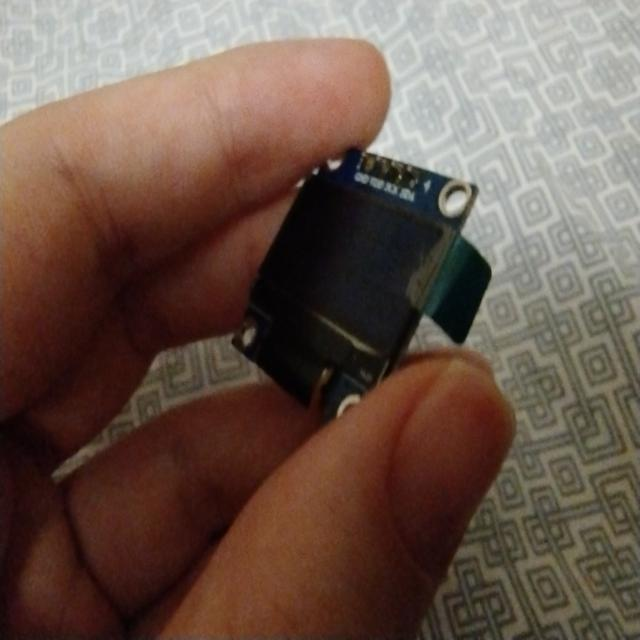oled: (232, 130, 483, 434)
